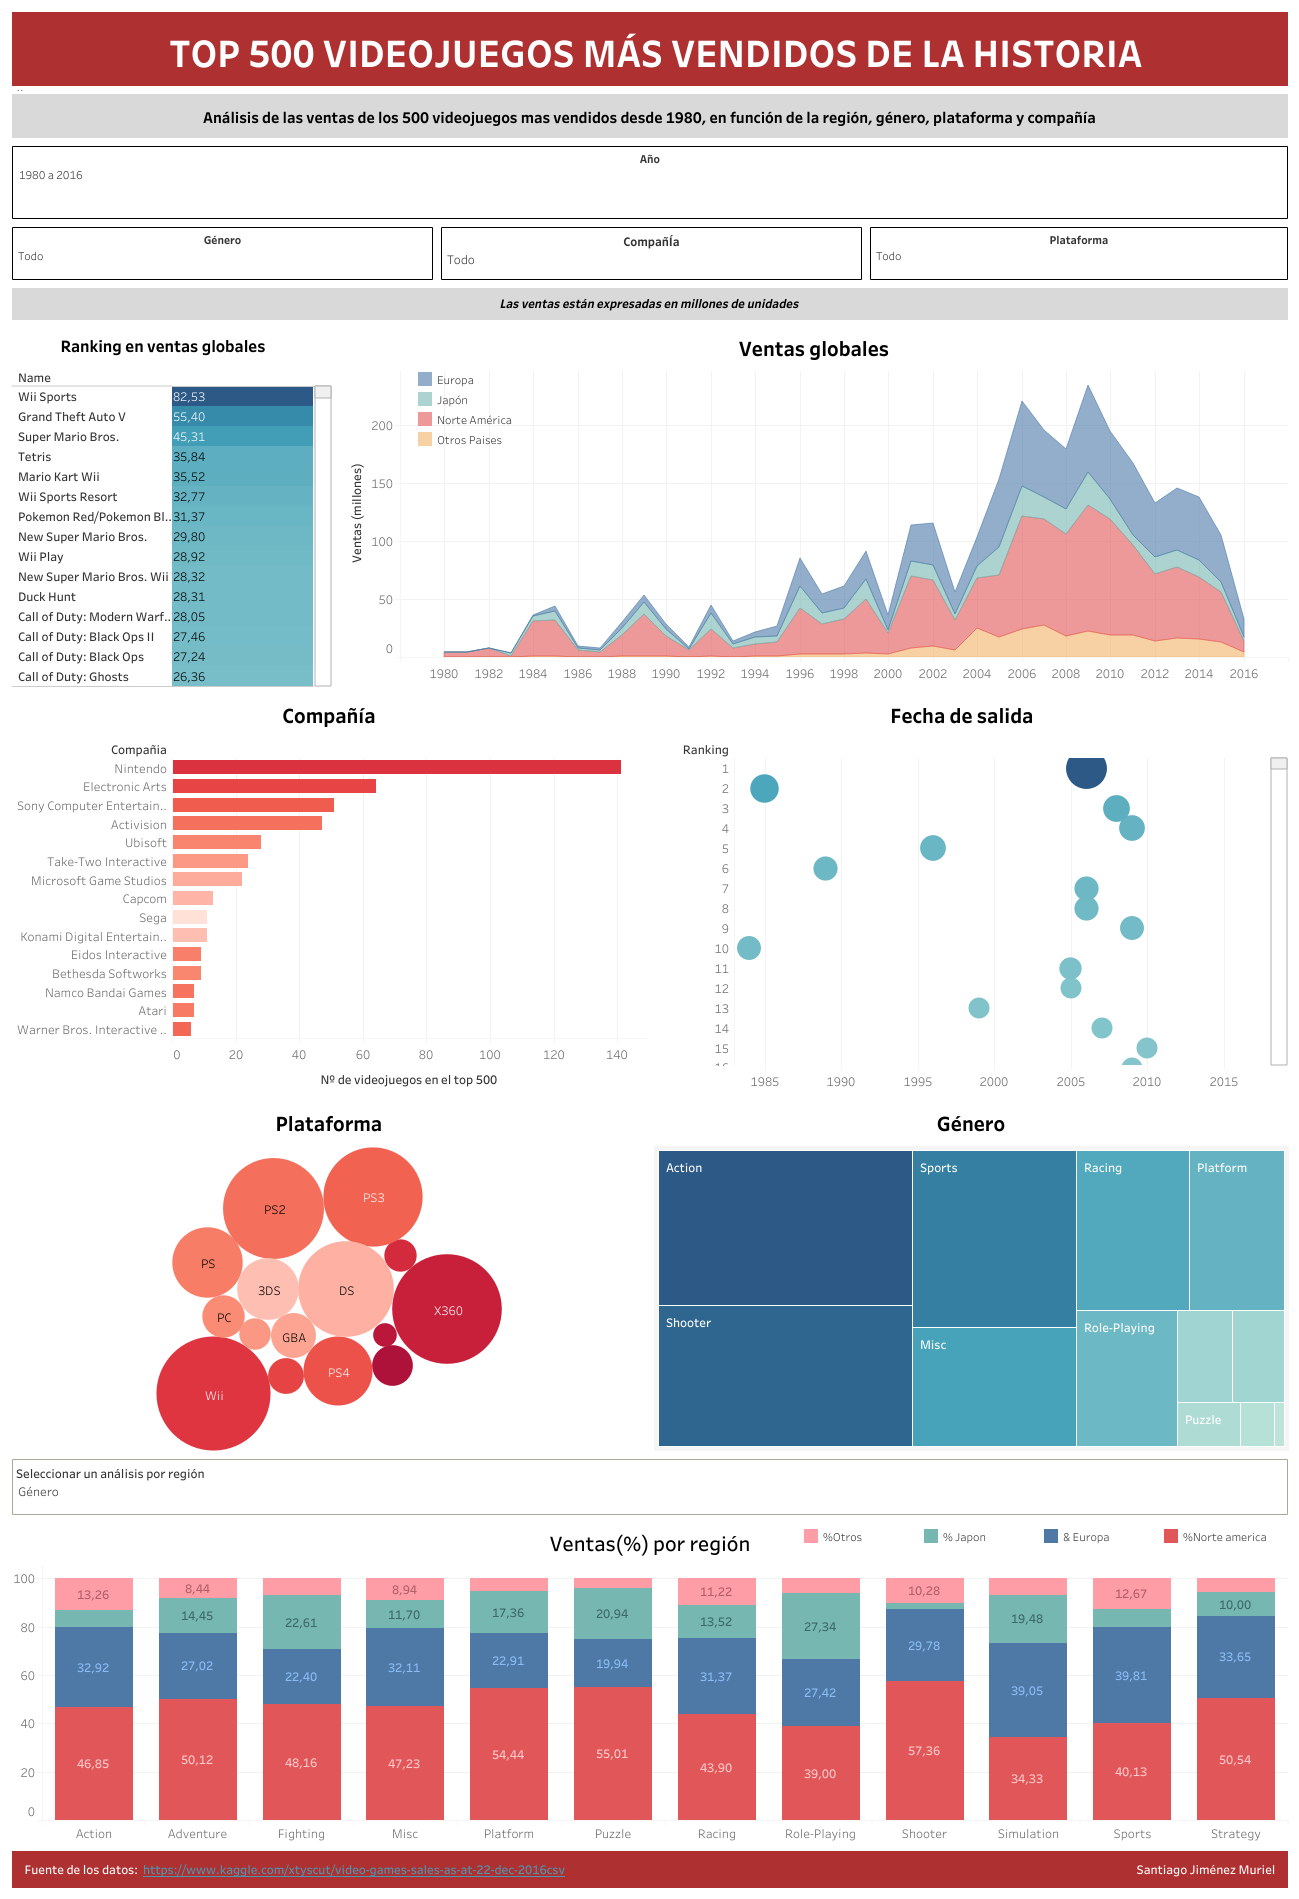

The page's visual inventory and layout, read from the dashboard file:
{"tool":"tableau","page":{"name":"Dashboard 1","canvas":[1300,1900],"ordinal":0},"visuals":[{"type":"image","param":"Image/TOP 500 VIDEOJUEGOS MAS VENDIDOS (4).png","box":[8,8,1284,82]},{"type":"text","box":[14,24,1284,72]},{"type":"image","param":"Image/TOP 500 VIDEOJUEGOS MAS VENDIDOS (2).png","box":[8,90,1284,52.2]},{"type":"text","box":[12,94,1275,44]},{"type":"filter","title":"Compañia","param":"[federated.0uvyc500l7pwj61apmpm51pb8esg].[none:Year_of_Release:qk]","box":[8,142.3,1284,80.8]},{"type":"filter","title":"Compañia","param":"[federated.0uvyc500l7pwj61apmpm51pb8esg].[none:Genre:nk]","box":[8,223.1,429,61.3]},{"type":"filter","title":"Ranking","param":"[federated.0uvyc500l7pwj61apmpm51pb8esg].[none:Publisher:nk]","box":[437,223.1,429,61.3]},{"type":"filter","title":"Compañia","param":"[federated.0uvyc500l7pwj61apmpm51pb8esg].[none:Platform:nk]","box":[866,223.1,426,61.3]},{"type":"image","param":"Image/TOP 500 VIDEOJUEGOS MAS VENDIDOS (2).png","box":[8,284.4,1284,40]},{"type":"text","box":[13,290,1275,26]},{"type":"worksheet","title":"Ranking","mark":"Square","rows":["Name"],"box":[8,324.4,327.9,366.5]},{"type":"worksheet","title":"Ventas globales por región","mark":"Area","cols":["Year_of_Release"],"box":[335.9,324.4,956.1,366.5]},{"type":"legend","title":"Ventas globales por región","param":"[federated.0uvyc500l7pwj61apmpm51pb8esg].[:Measure Names]","box":[415,369,140,80]},{"type":"worksheet","title":"Compañia","mark":"Automatic","rows":["Publisher"],"cols":["Video!Games!Sales!as!at!22!Dec!_656F4F1A6BE449FC84EB486057D4"],"box":[8,691,642,408]},{"type":"worksheet","title":"Fecha de salida","mark":"Circle","rows":["Ranking"],"cols":["Year_of_Release"],"box":[650,691,642,408]},{"type":"worksheet","title":"Plataformas","mark":"Circle","box":[8,1098.9,642,356.1]},{"type":"worksheet","title":"Género","mark":"Automatic","box":[650,1098.9,642,356.1]},{"type":"parameter","param":"[Parameters].[Parámetro 1]","box":[8,1455,1284,64]},{"type":"worksheet","title":"Venta región por género","mark":"Automatic","cols":["Genre"],"box":[8,1519,1284,327]},{"type":"legend","title":"Venta región por género","param":"[federated.0uvyc500l7pwj61apmpm51pb8esg].[:Measure Names]","box":[801,1526,495,99]},{"type":"worksheet","title":"Venta región por plataforma","mark":"Automatic","cols":["Platform"],"box":[8,1846,1284,1]},{"type":"image","param":"Image/TOP 500 VIDEOJUEGOS MAS VENDIDOS (4).png","box":[8,1847,1284,45]},{"type":"text","box":[22,1848,725,42]}]}

Visuals, with their boxes in screenshot pixels (x1, y1, x2, y2), scaled from the page's 1300x1900 canvas onto the 1299x1899 screenshot:
image: bbox(8, 8, 1291, 90)
text: bbox(14, 24, 1297, 96)
image: bbox(8, 90, 1291, 142)
text: bbox(12, 94, 1286, 138)
"Compañia" filter: bbox(8, 142, 1291, 223)
"Compañia" filter: bbox(8, 223, 437, 284)
"Ranking" filter: bbox(437, 223, 865, 284)
"Compañia" filter: bbox(865, 223, 1291, 284)
image: bbox(8, 284, 1291, 324)
text: bbox(13, 290, 1287, 316)
"Ranking" worksheet (Square marks): bbox(8, 324, 336, 691)
"Ventas globales por región" worksheet (Area marks): bbox(336, 324, 1291, 691)
"Ventas globales por región" legend: bbox(415, 369, 555, 449)
"Compañia" worksheet: bbox(8, 691, 650, 1098)
"Fecha de salida" worksheet (Circle marks): bbox(650, 691, 1291, 1098)
"Plataformas" worksheet (Circle marks): bbox(8, 1098, 650, 1454)
"Género" worksheet: bbox(650, 1098, 1291, 1454)
parameter: bbox(8, 1454, 1291, 1518)
"Venta región por género" worksheet: bbox(8, 1518, 1291, 1845)
"Venta región por género" legend: bbox(800, 1525, 1295, 1624)
"Venta región por plataforma" worksheet: bbox(8, 1845, 1291, 1846)
image: bbox(8, 1846, 1291, 1891)
text: bbox(22, 1847, 746, 1889)
